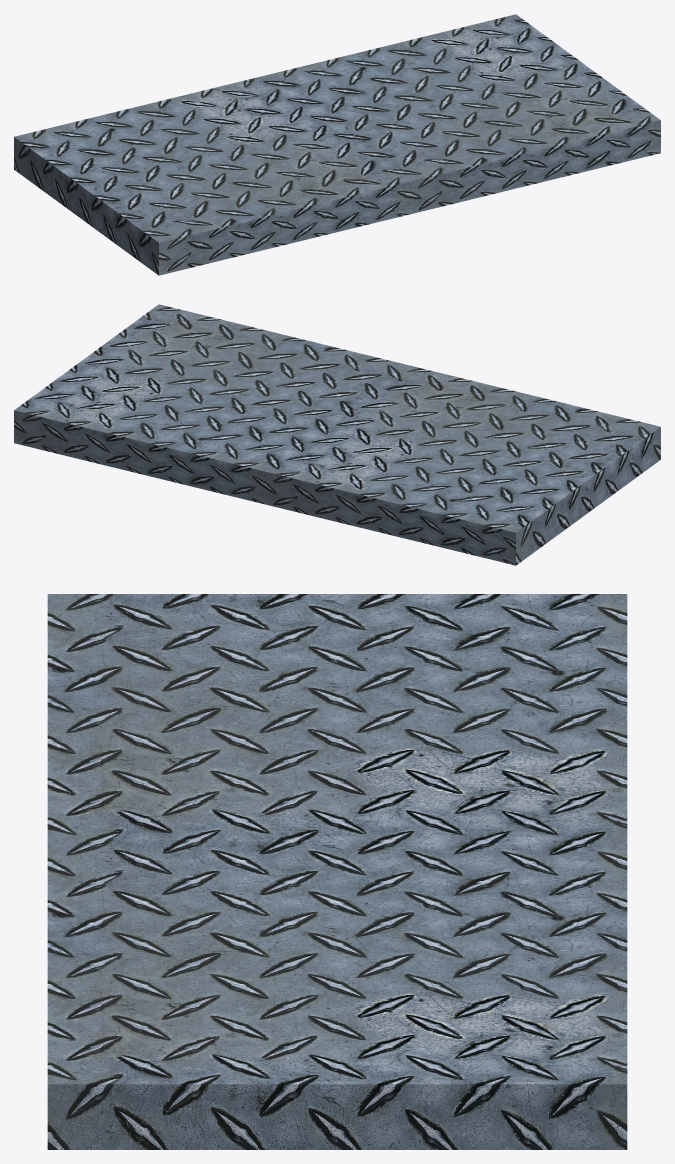
The model's file is platform1.fbx.
3 renders of one model, top to bottom at view 1: azimuth 30°, elevation 25°; view 2: azimuth 150°, elevation 25°; view 3: azimuth 270°, elevation 25°, orthographic. The views are drawn at different scales.
Visible parts, largest first — view 1: platform1; view 2: platform1; view 3: platform1.
Part boxes in pixels (box(x1,y1,x2,y2)): platform1: box(14, 14, 660, 275); platform1: box(14, 304, 660, 565); platform1: box(47, 594, 627, 1149).
Bounding box in the file's own units: 800 × 50 × 400.
